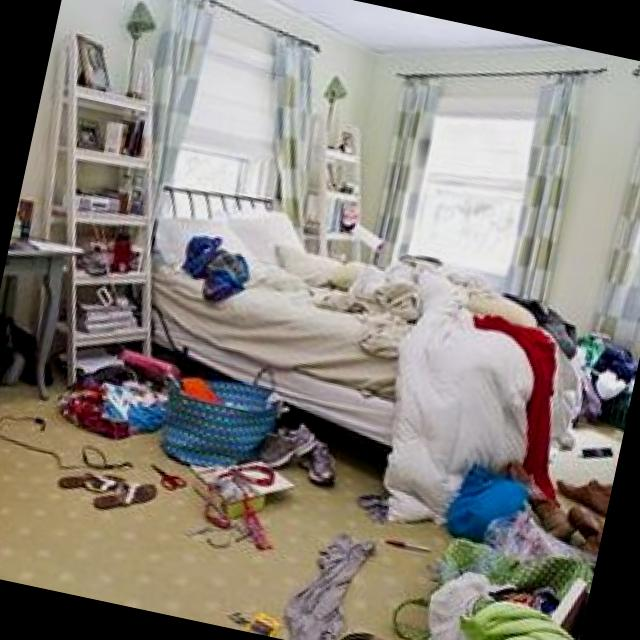mess: (0, 338, 425, 640), (212, 193, 555, 482), (0, 33, 207, 411), (130, 189, 432, 371), (355, 472, 605, 640)
